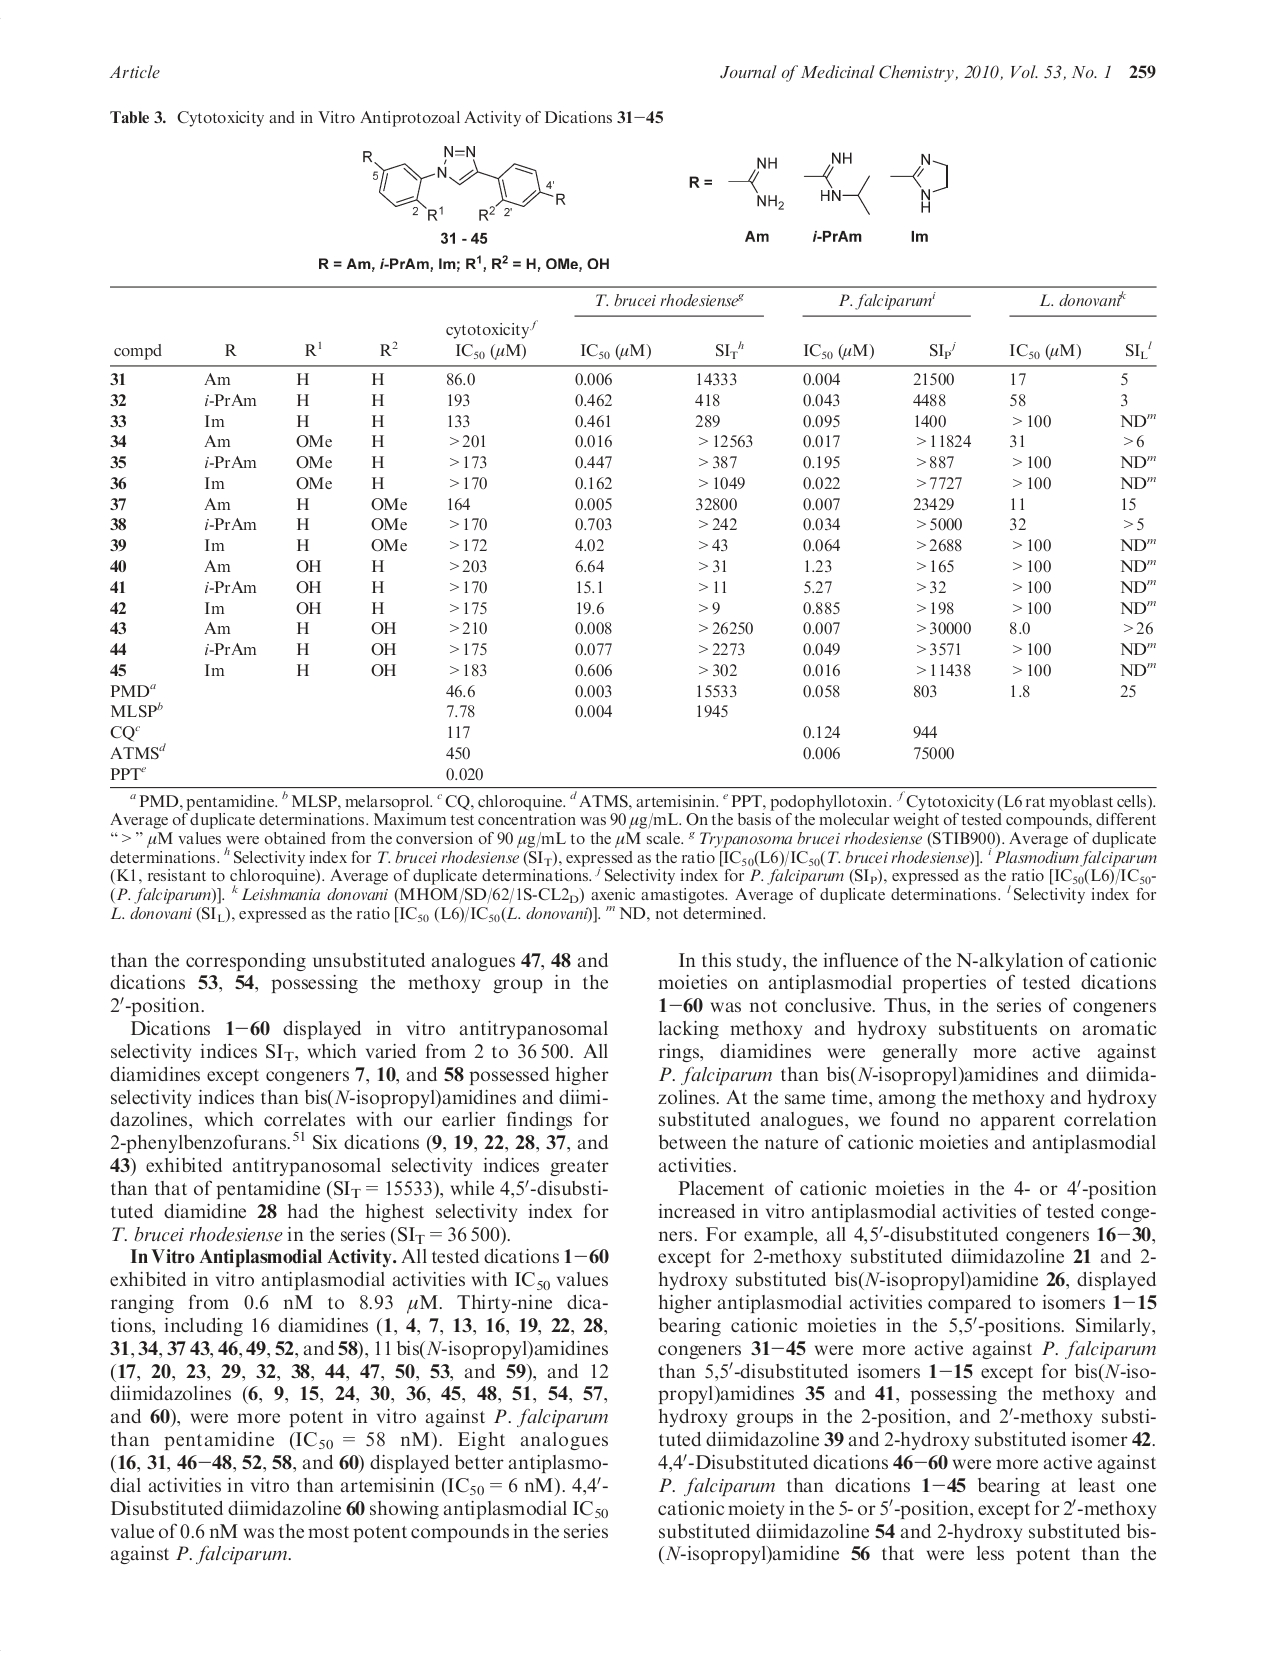exist_molecular: (359, 148, 568, 223), (805, 150, 872, 215), (888, 152, 949, 214), (727, 156, 786, 211)
